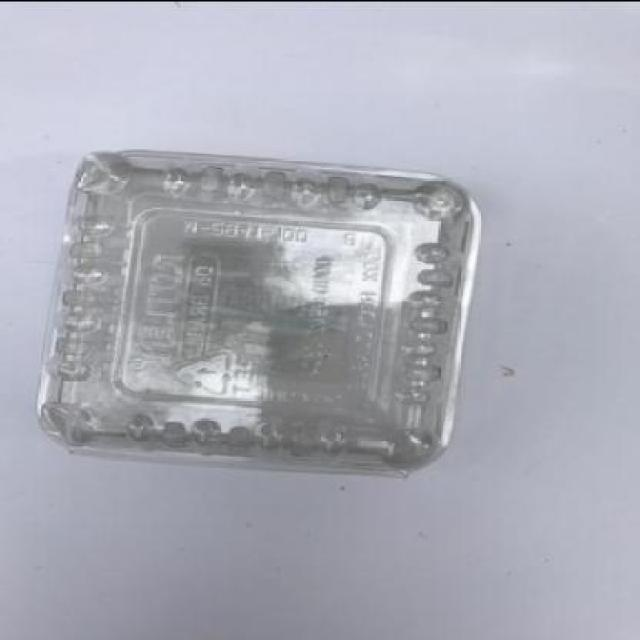PLASTIC: (29, 145, 478, 477)
